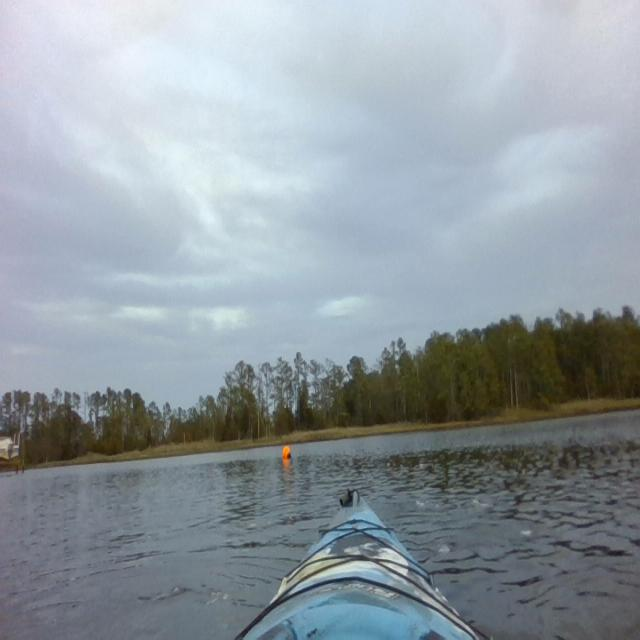Buoy: (282, 444, 292, 460)
